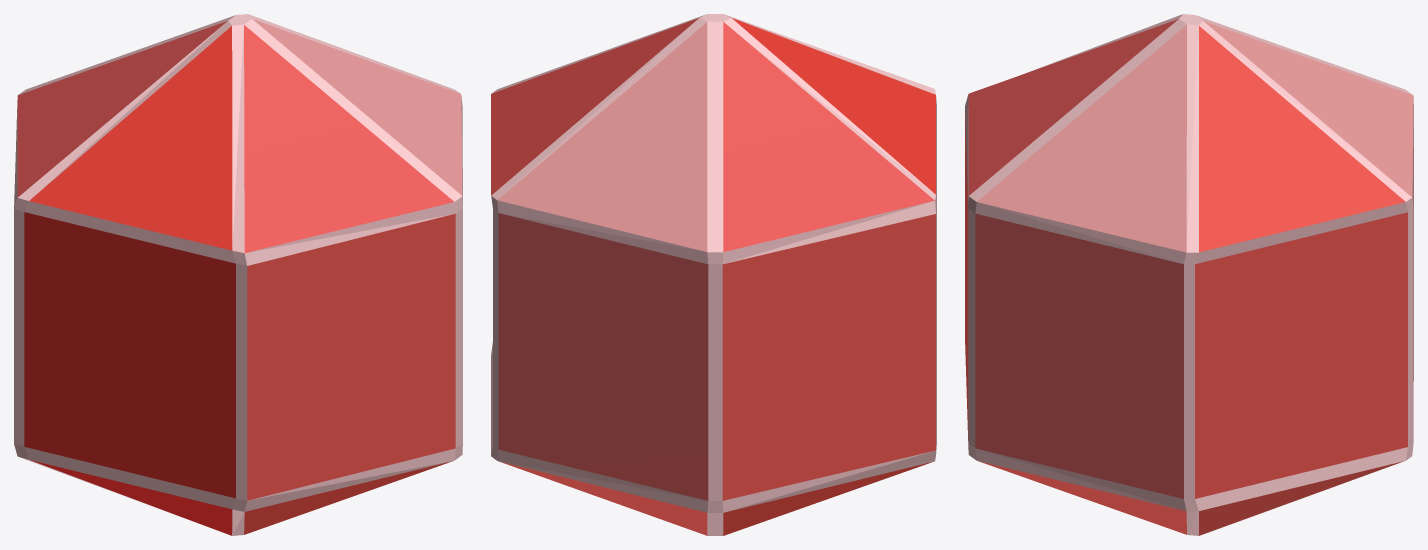
The model's file is Red_Gem.FBX.
3 views of the same model, side by side, from view 1: azimuth 30°, elevation 25°; view 2: azimuth 150°, elevation 25°; view 3: azimuth 270°, elevation 25° (orthographic).
Visible parts, largest first — view 1: Sphere002; view 2: Sphere002; view 3: Sphere002.
Boxes of the visible parts, box(x1,y1,x2,y2) form: Sphere002: box(14, 14, 462, 535); Sphere002: box(491, 14, 936, 535); Sphere002: box(965, 14, 1413, 535).
Size of the model in its own units: 0.6622 by 0.7316 by 0.5832.
Materials: 1 (1 with a texture image).
